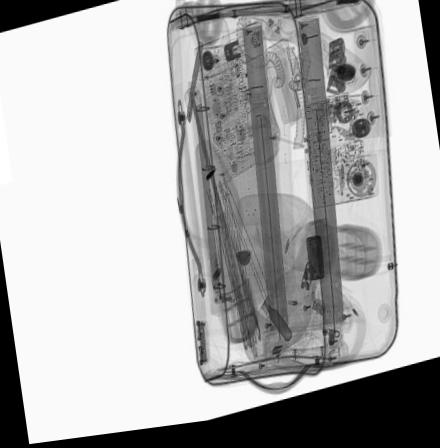Knife: (186, 46, 203, 131)
